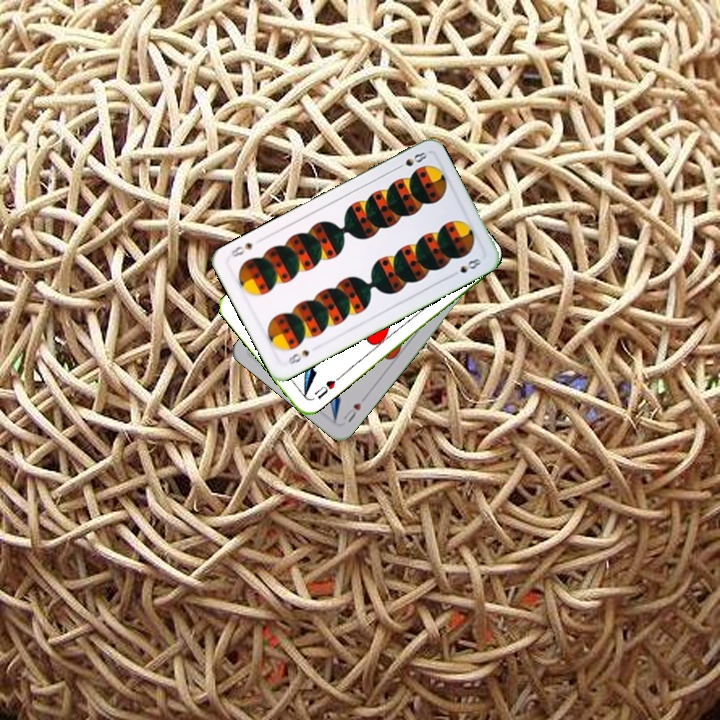HU: (339, 392, 369, 425), (310, 373, 342, 402)
S8: (391, 148, 430, 173), (282, 346, 312, 368)
